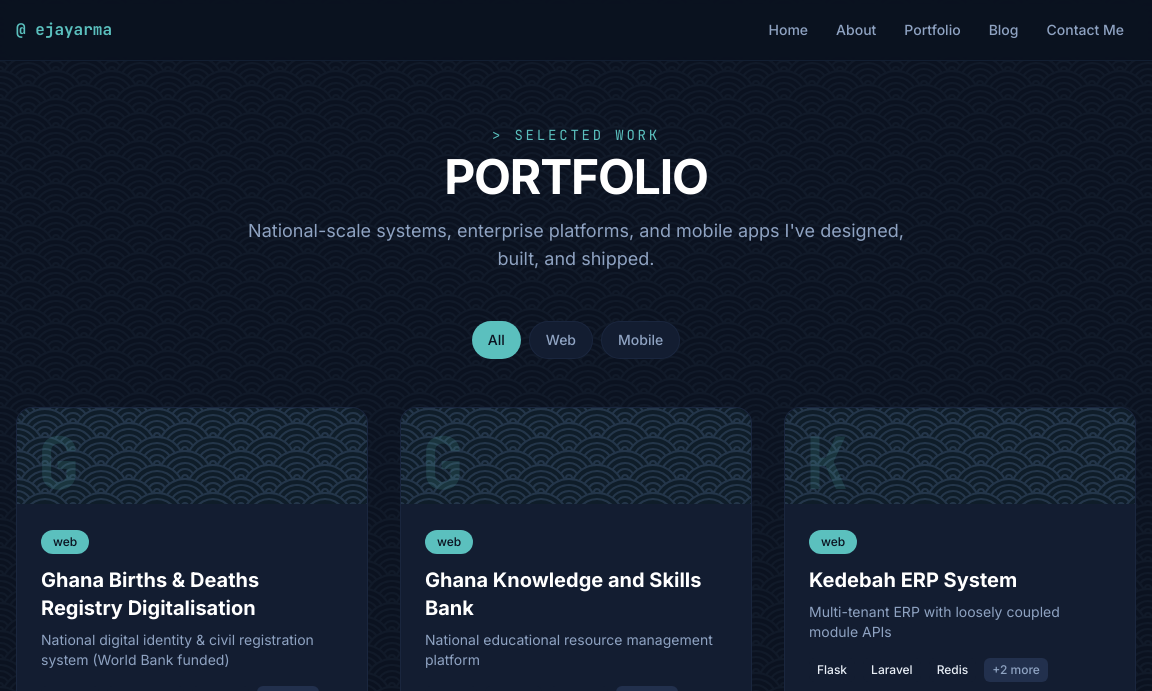
Portfolio site › filters projects by category
Click the tab "Mobile" at (641, 340), box top-left (601, 321), bottom-right (680, 359)
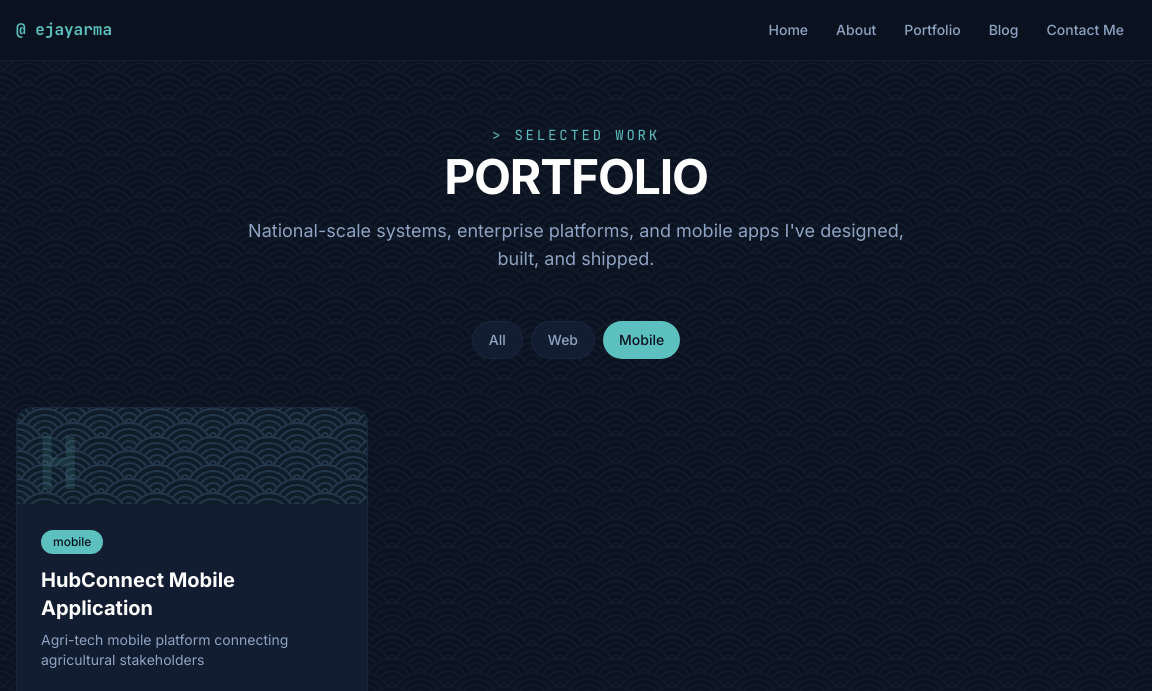
Check: the heading "HubConnect Mobile Application" is shown, box top-left (41, 568), bottom-right (235, 620)
Check: the heading "Ghana Knowledge and Skills Bank" is gone
